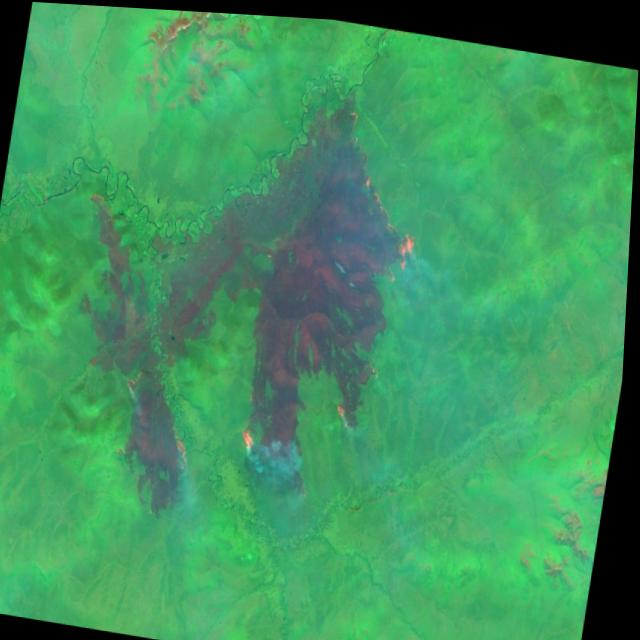fire: (336, 156, 443, 286), (112, 351, 214, 471), (225, 402, 280, 469), (331, 379, 365, 425)
